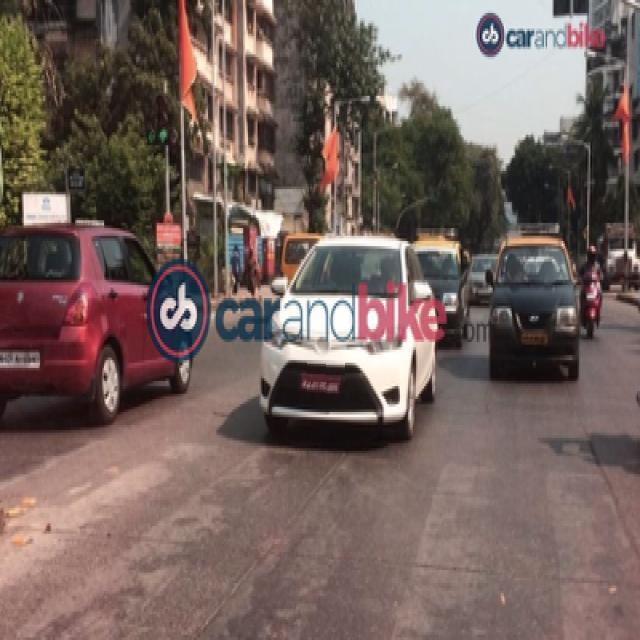licence: (298, 360, 346, 394)
